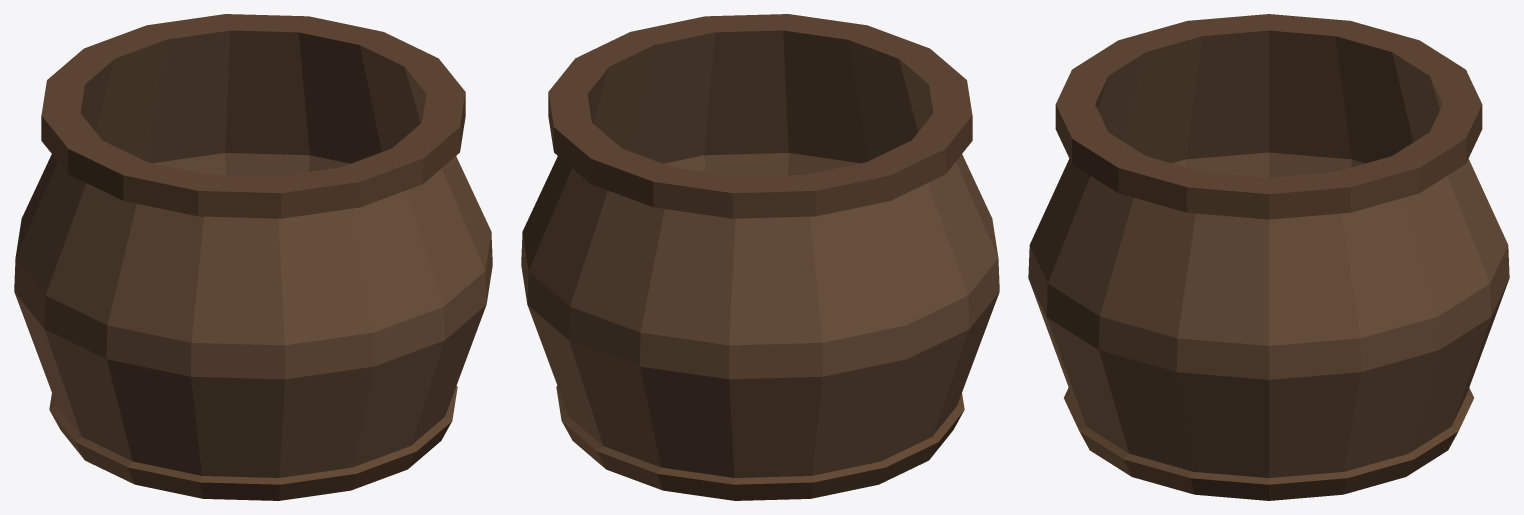
The model's file is Pot.fbx.
3 views of the same model, side by side, from view 1: azimuth 30°, elevation 25°; view 2: azimuth 150°, elevation 25°; view 3: azimuth 270°, elevation 25° (orthographic).
Parts seen in each view (by area): view 1: Cylinder.001; view 2: Cylinder.001; view 3: Cylinder.001.
Boxes of the visible parts, x1,y1,x2,y2 form: Cylinder.001: [14, 14, 492, 500]; Cylinder.001: [521, 14, 999, 500]; Cylinder.001: [1028, 14, 1509, 500].
Size of the model in its own units: 281 by 203 by 281.
